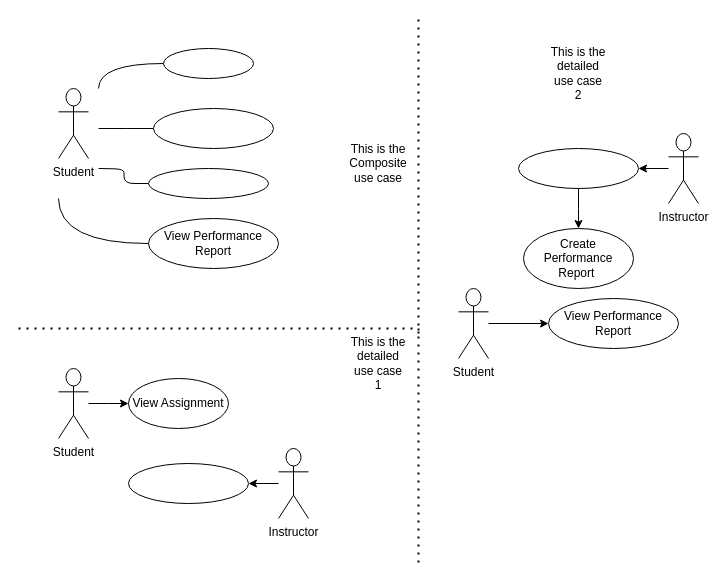
Some shapes in this 725 by 587 pixel diagram are drawn without their labels. Each missing label, with the centre of its shape:
Create Assignment: the point at 188,483
Manage grades: the point at 578,168
Submit Assignment: the point at 208,183
View Courses: the point at 208,63
View Notifications: the point at 213,128
